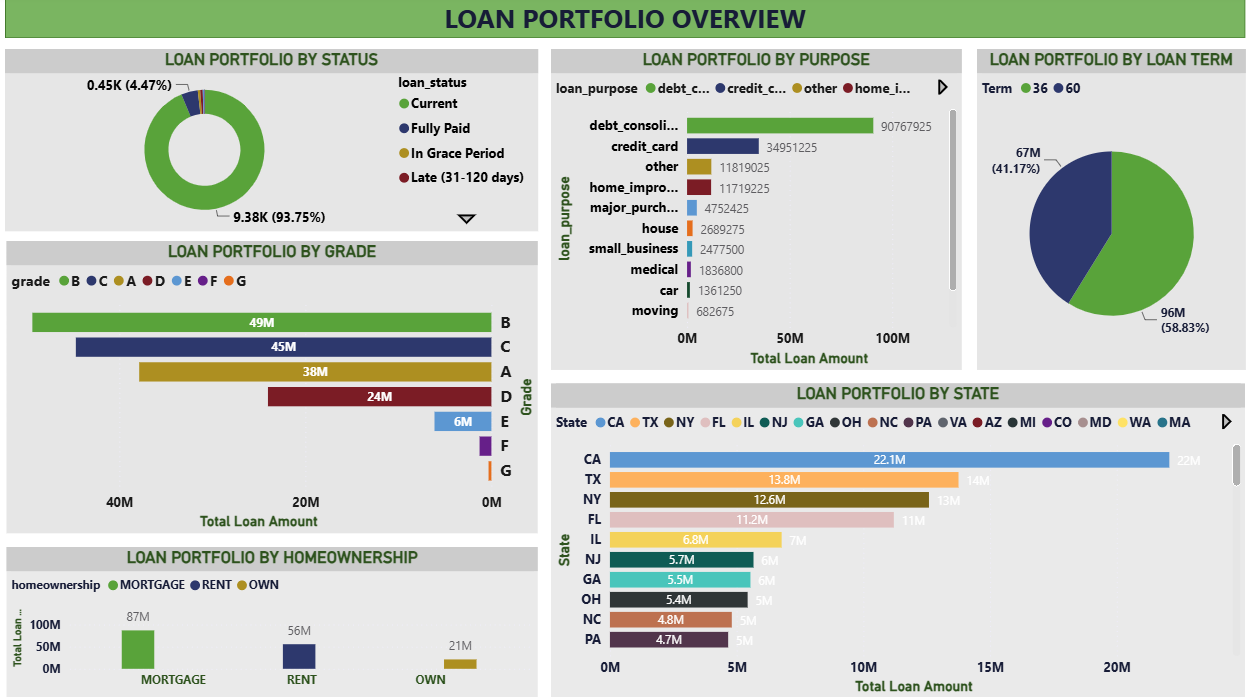

The page's visual inventory and layout, read from the dashboard file:
{"tool":"powerbi","page":{"name":"LOAN PORTFOLIO OVERVIEW","canvas":[1280,720],"ordinal":1},"visuals":[{"type":"barChart","title":"LOAN PORTFOLIO BY GRADE","fields":{"Category":["CLEAN_DATASET.grade"],"Y":["CLEAN_DATASET.Total Loan Amount"],"Series":["CLEAN_DATASET.grade"]},"box":[10.7,252.2,544.2,299.6],"z":4003},{"type":"donutChart","title":"LOAN PORTFOLIO BY STATUS","fields":{"Category":["CLEAN_DATASET.loan_status"],"Y":["CountNonNull(CLEAN_DATASET.id)"]},"box":[9.2,55,545.7,186.5],"z":4004},{"type":"barChart","title":"LOAN PORTFOLIO BY PURPOSE","fields":{"Category":["CLEAN_DATASET.loan_purpose"],"Y":["CLEAN_DATASET.Total Loan Amount"],"Series":["CLEAN_DATASET.loan_purpose"]},"box":[568.7,55,420.4,328.7],"z":4005},{"type":"pieChart","title":"LOAN PORTFOLIO BY LOAN TERM","fields":{"Y":["CLEAN_DATASET.Total Loan Amount"],"Category":["CLEAN_DATASET.term"]},"box":[1004.3,55,275.2,328.7],"z":4006},{"type":"barChart","title":"LOAN PORTFOLIO BY STATE","fields":{"Category":["CLEAN_DATASET.state"],"Y":["CLEAN_DATASET.Total Loan Amount"],"Series":["CLEAN_DATASET.state"]},"box":[568.7,397.5,710.8,322.5],"z":4007},{"type":"clusteredColumnChart","title":"LOAN PORTFOLIO BY HOMEOWNERSHIP","fields":{"Category":["CLEAN_DATASET.homeownership"],"Y":["CLEAN_DATASET.Total Loan Amount"],"Series":["CLEAN_DATASET.homeownership"]},"box":[10.7,565.6,544.2,154.4],"z":4008},{"type":"shape","box":[9.2,0,1270.3,44.3],"z":4009}]}

Visuals, with their boxes in screenshot pixels (x1, y1, x2, y2), scaled from the page's 1280x720 canvas onto the 1246x697 screenshot:
"LOAN PORTFOLIO BY GRADE" barChart: bbox(10, 244, 540, 534)
"LOAN PORTFOLIO BY STATUS" donutChart: bbox(9, 53, 540, 234)
"LOAN PORTFOLIO BY PURPOSE" barChart: bbox(554, 53, 963, 371)
"LOAN PORTFOLIO BY LOAN TERM" pieChart: bbox(978, 53, 1245, 371)
"LOAN PORTFOLIO BY STATE" barChart: bbox(554, 385, 1245, 696)
"LOAN PORTFOLIO BY HOMEOWNERSHIP" clusteredColumnChart: bbox(10, 548, 540, 696)
shape: bbox(9, 0, 1245, 43)
